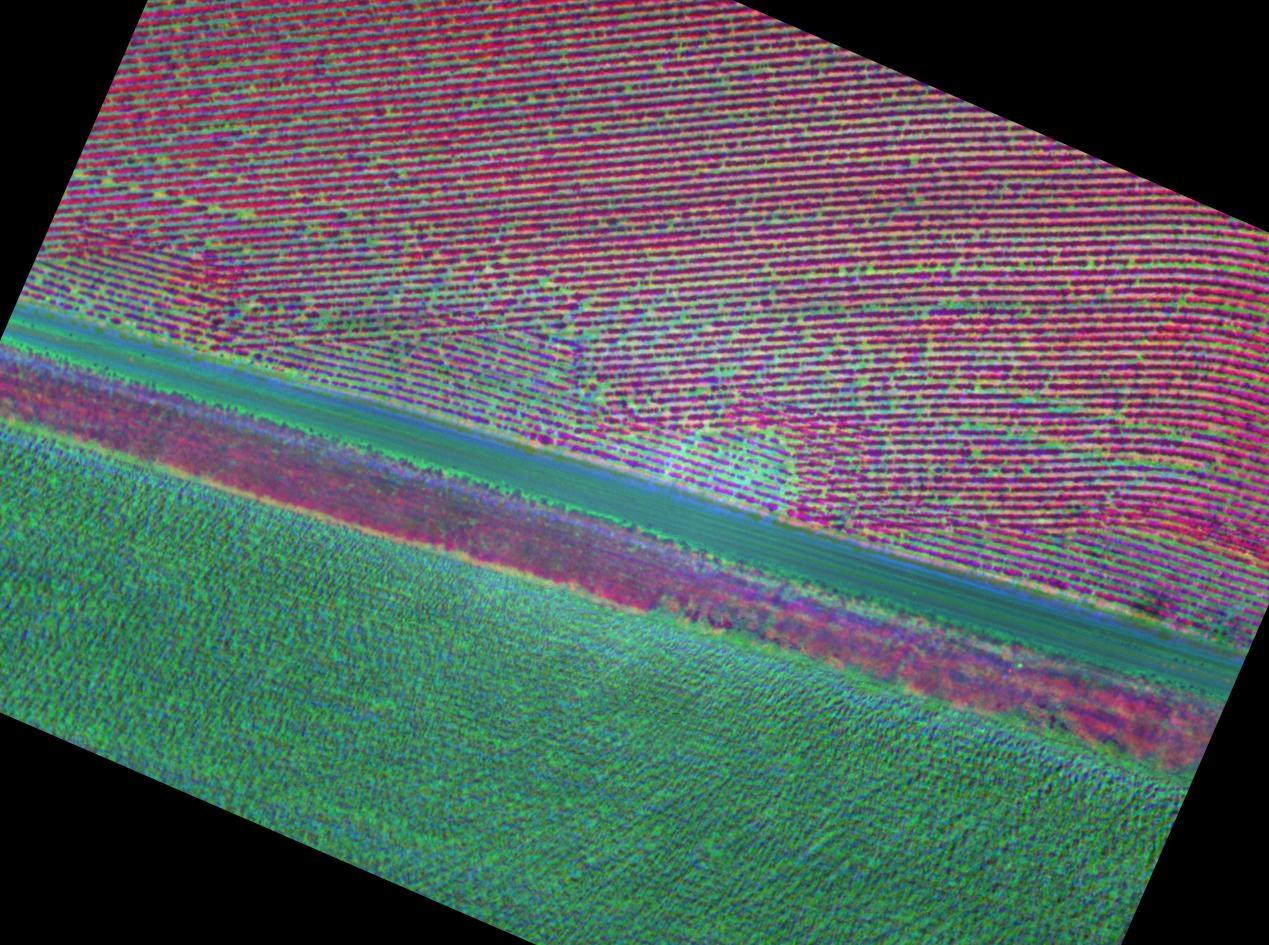dc: (320, 312, 327, 318), (1025, 397, 1030, 402), (918, 196, 922, 201), (668, 226, 672, 231), (1180, 300, 1184, 305), (1089, 263, 1093, 267), (869, 268, 873, 272), (864, 529, 868, 533), (900, 538, 904, 542), (406, 230, 409, 235), (956, 266, 959, 270), (1171, 434, 1174, 438), (1051, 444, 1054, 448), (870, 473, 873, 477), (954, 499, 957, 503)
